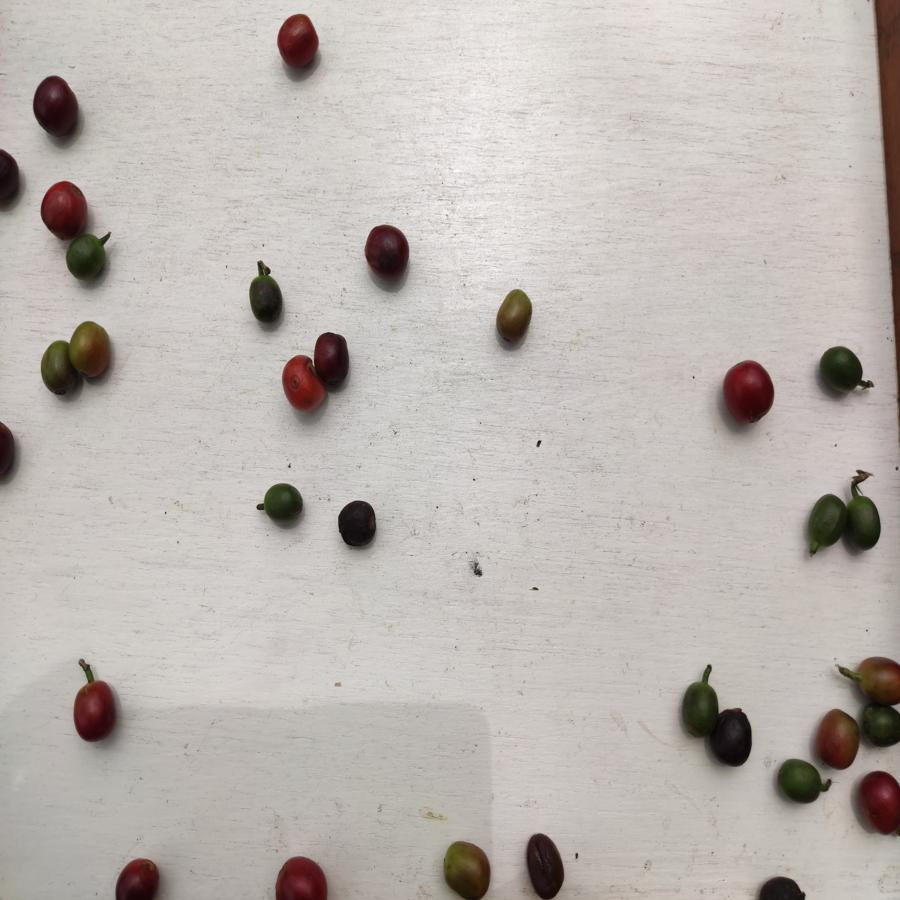Inmaduro: (679, 678, 719, 746), (772, 758, 826, 805), (844, 492, 884, 555), (244, 276, 290, 326), (818, 342, 862, 394), (808, 493, 845, 548), (260, 482, 304, 527), (63, 234, 106, 280), (865, 704, 900, 746)
Maduro: (716, 358, 776, 427), (36, 181, 95, 235), (858, 767, 900, 839), (73, 679, 119, 744), (275, 11, 322, 72), (273, 854, 333, 900), (280, 351, 323, 412)
Pinton: (442, 841, 493, 900), (815, 710, 858, 773), (37, 340, 79, 401), (71, 319, 111, 375), (495, 286, 531, 342)
Sobremaduro: (29, 75, 80, 137), (521, 831, 567, 897), (359, 225, 415, 279), (717, 706, 754, 769), (314, 330, 351, 390), (335, 500, 380, 546), (755, 871, 807, 900)
